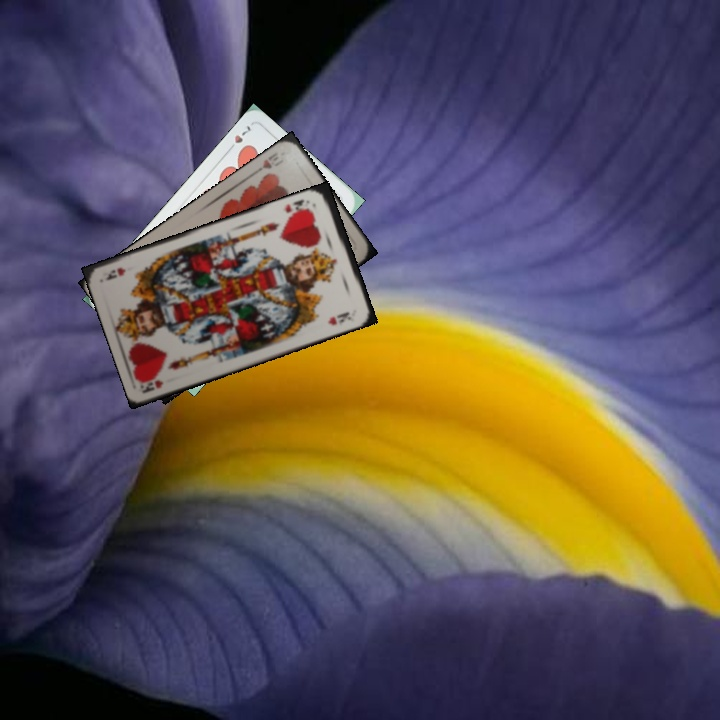H10: (250, 148, 286, 176)
H7: (223, 121, 255, 154)
HK: (280, 195, 312, 220), (138, 374, 166, 395)
